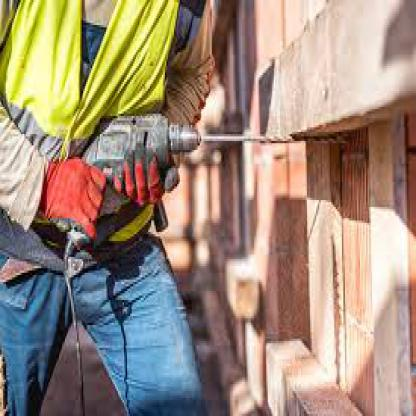with_gloves: (40, 157, 108, 239), (112, 143, 180, 205)
